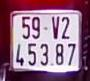2: (61, 16, 71, 41)
3: (40, 42, 50, 68)
4: (16, 43, 25, 67)
5: (20, 14, 32, 40), (26, 43, 37, 67)
7: (66, 43, 76, 67)
8: (54, 43, 65, 68)
9: (32, 16, 42, 41)
V: (50, 15, 60, 42)
